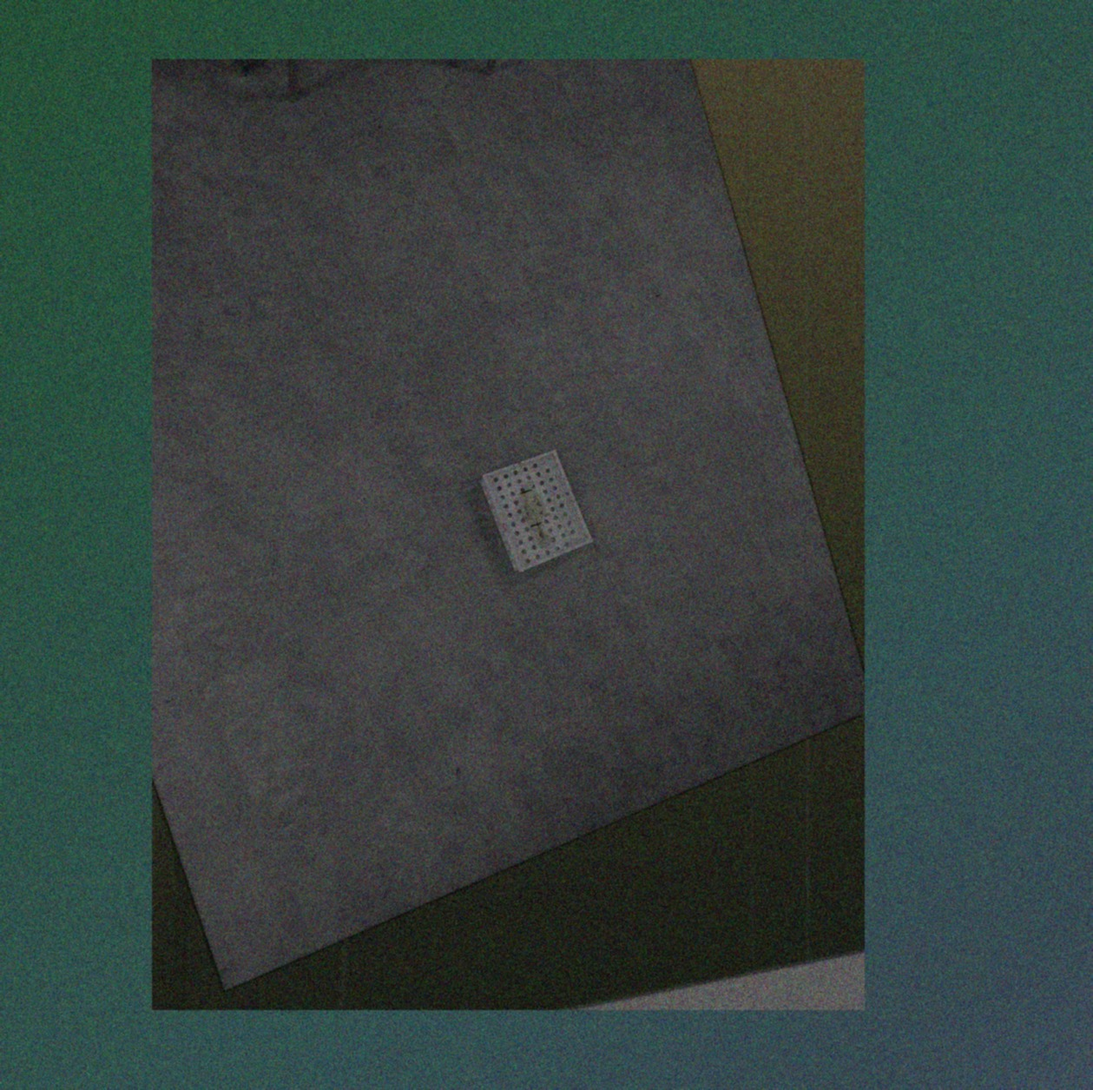basket: (477, 447, 596, 577)
mannequin: (520, 482, 553, 546)
